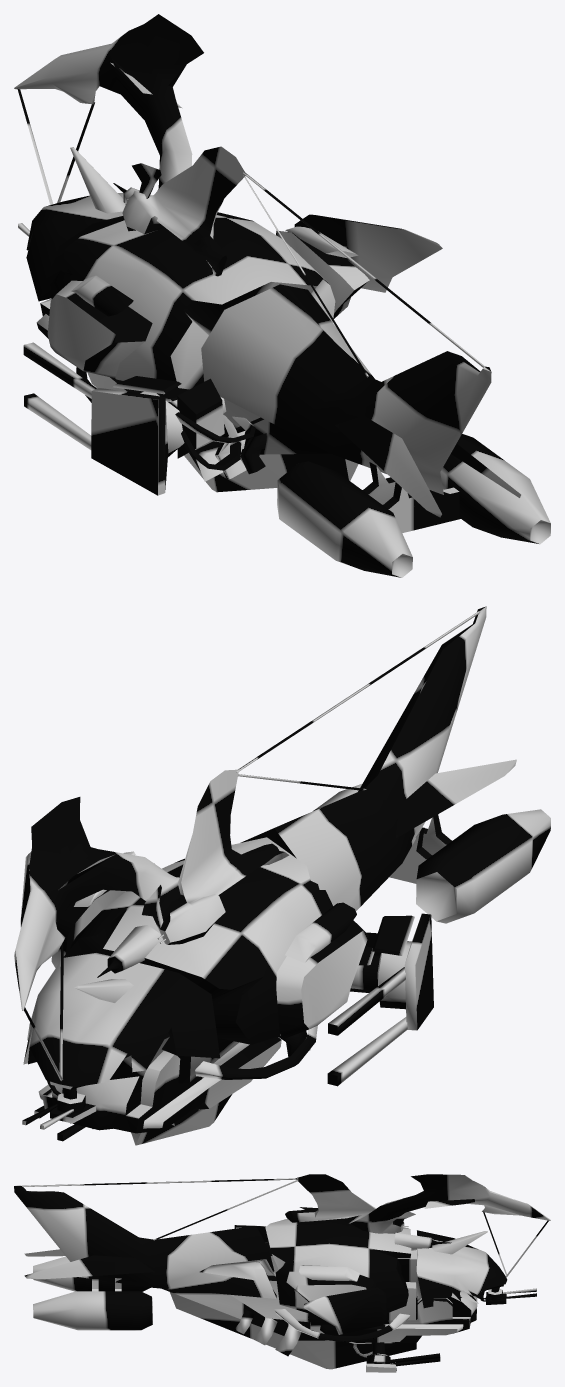
The model's file is saboteur.obj.
3 views of the same model, one above another, from view 1: azimuth 30°, elevation 25°; view 2: azimuth 150°, elevation 25°; view 3: azimuth 270°, elevation 25° (orthographic). The views are drawn at different scales.
Parts seen in each view (by area): view 1: saboteur; view 2: saboteur; view 3: saboteur.
Boxes of the visible parts, box(x1,y1,x2,y2) form: saboteur: box(14, 14, 550, 577); saboteur: box(14, 606, 550, 1145); saboteur: box(14, 1174, 550, 1372).
Size of the model in its own units: 59.8 by 57.63 by 132.
1 material, 1 textured.
